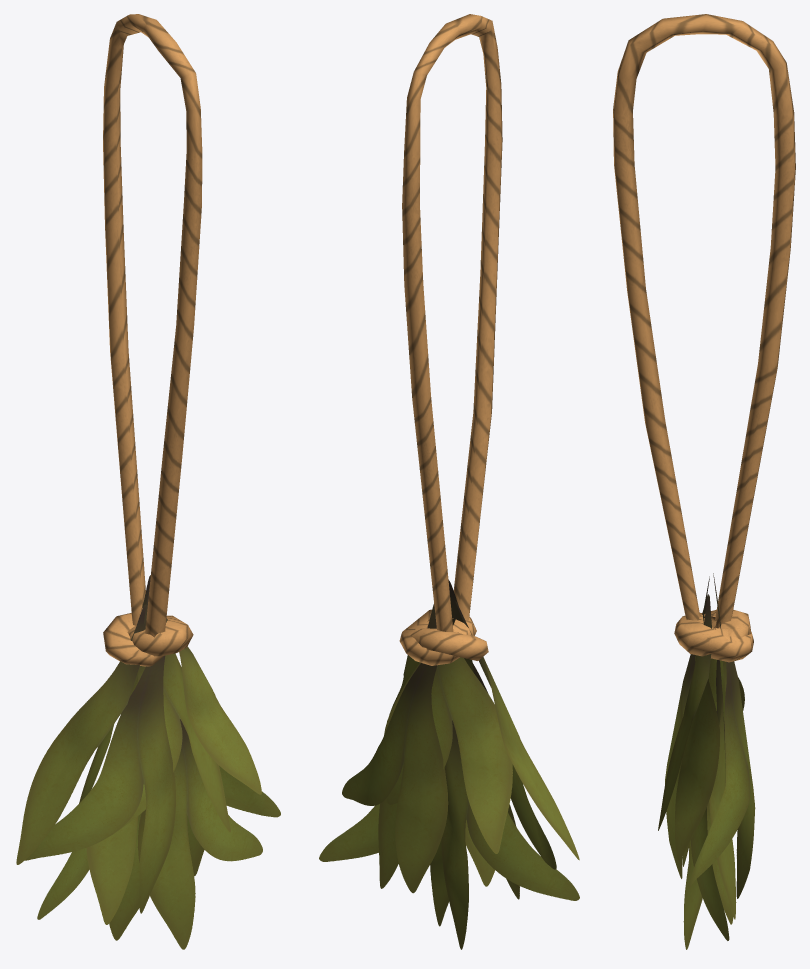
File: SM_Potion_Props_Herb_Broom_Ceiling_04.fbx
The picture shows the model from 3 angles, left to right: view 1: azimuth 30°, elevation 25°; view 2: azimuth 150°, elevation 25°; view 3: azimuth 270°, elevation 25°; orthographic projection.
Visible parts, largest first — view 1: SM_Potion_Props_Herb_Broom_Ceiling_04_LOD0; view 2: SM_Potion_Props_Herb_Broom_Ceiling_04_LOD0; view 3: SM_Potion_Props_Herb_Broom_Ceiling_04_LOD0.
Part boxes in pixels (box(x1,y1,x2,y2)): SM_Potion_Props_Herb_Broom_Ceiling_04_LOD0: box(16, 14, 280, 949); SM_Potion_Props_Herb_Broom_Ceiling_04_LOD0: box(319, 14, 579, 949); SM_Potion_Props_Herb_Broom_Ceiling_04_LOD0: box(613, 14, 795, 949).
Size of what is drawn, in the model's own units: 28.19 by 96.08 by 17.17.
